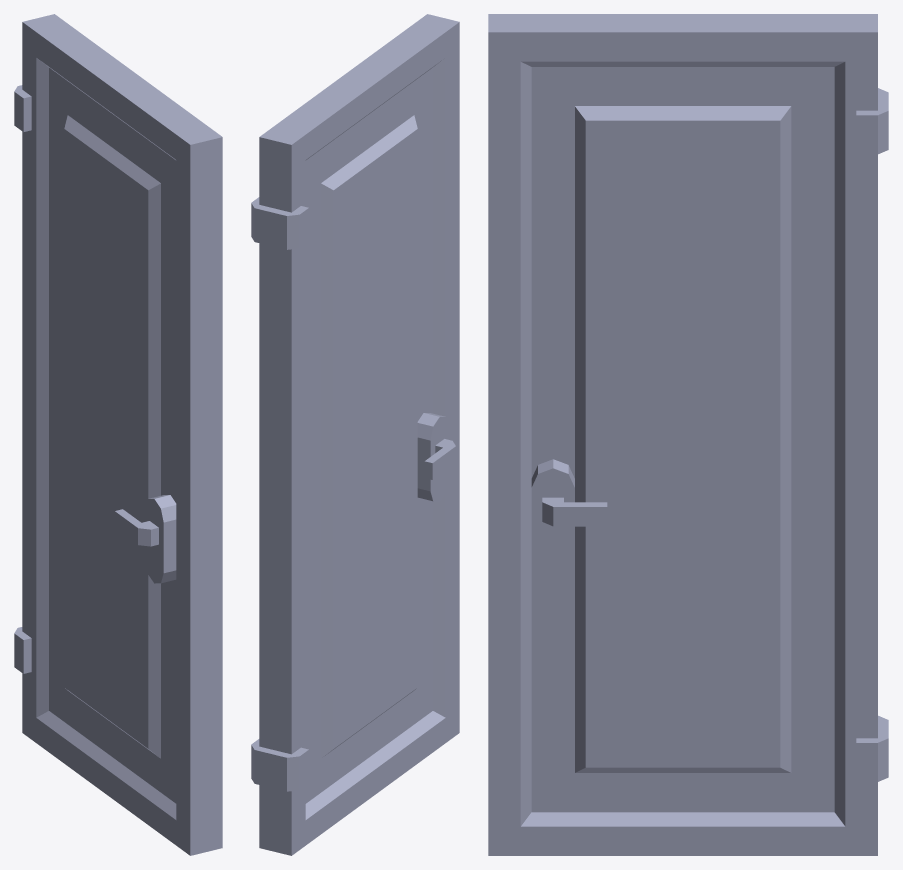
File: door-rotate-square-b.obj
3 renders of one model, left to right at view 1: azimuth 30°, elevation 25°; view 2: azimuth 150°, elevation 25°; view 3: azimuth 270°, elevation 25°, orthographic. The views are drawn at different scales.
Size of the model in its own units: 0.25 by 2.1 by 0.925.
